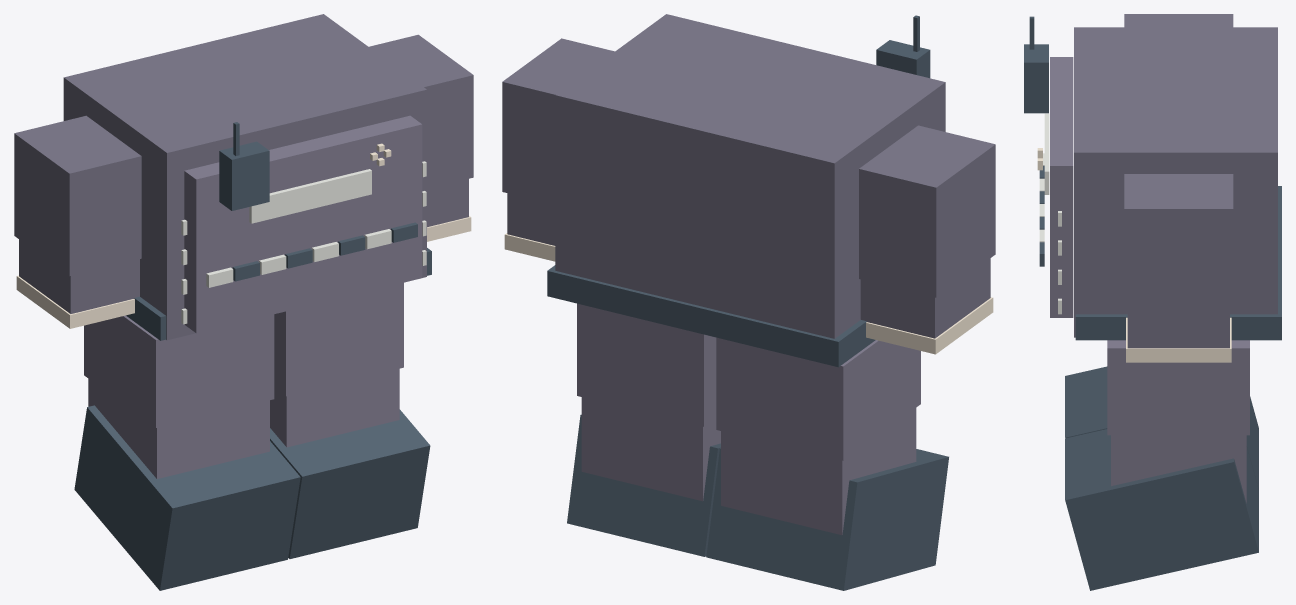
File: police-coral.glb
3 views of the same model, side by side, from view 1: azimuth 30°, elevation 25°; view 2: azimuth 150°, elevation 25°; view 3: azimuth 270°, elevation 25° (orthographic). The views are drawn at different scales.
Visible parts, largest first — view 1: jacket, duty-vest, shoe-Right, upper-sleeve-Right, trouser-Right, shoe-Left, trouser-Left, lower-trouser-Right, upper-sleeve-Left, lower-trouser-Left, lower-sleeve-Right, vest-label (+5 smaller); view 2: jacket, upper-sleeve-Right, shoe-Right, trouser-Right, trouser-Left, lower-trouser-Right, lower-trouser-Left, duty-belt, upper-sleeve-Left, shoe-Left, lower-sleeve-Right, cuff-Right (+3 smaller); view 3: jacket, shoe-Left, upper-sleeve-Left, trouser-Left, duty-vest, lower-trouser-Left, lower-sleeve-Left, shoe-Right, duty-belt, radio, cuff-Left, upper-sleeve-Right (+1 smaller).
Boxes of the visible parts, x1,y1,x2,y2 form: jacket: (63, 14, 426, 340); duty-vest: (184, 115, 422, 333); shoe-Right: (74, 405, 300, 590); upper-sleeve-Right: (14, 115, 141, 276); trouser-Right: (84, 314, 274, 427); shoe-Left: (270, 409, 430, 558); trouser-Left: (274, 282, 403, 396); lower-trouser-Right: (88, 379, 269, 478); upper-sleeve-Left: (369, 34, 473, 188); lower-trouser-Left: (270, 368, 399, 447); lower-sleeve-Right: (19, 239, 139, 313); vest-label: (249, 169, 371, 223); jacket: (555, 14, 945, 338); upper-sleeve-Right: (859, 125, 995, 297); shoe-Right: (706, 448, 948, 590); trouser-Right: (716, 337, 920, 460); trouser-Left: (577, 303, 716, 426); lower-trouser-Right: (721, 408, 916, 534); lower-trouser-Left: (581, 397, 720, 501); duty-belt: (547, 265, 875, 367); upper-sleeve-Left: (502, 38, 614, 204); shoe-Left: (567, 414, 720, 556); lower-sleeve-Right: (860, 258, 990, 338); cuff-Right: (866, 297, 993, 354); jacket: (1074, 27, 1277, 337); shoe-Left: (1065, 429, 1258, 590); upper-sleeve-Left: (1124, 174, 1233, 309); trouser-Left: (1107, 340, 1249, 435); duty-vest: (1050, 57, 1073, 317); lower-trouser-Left: (1111, 435, 1246, 503); lower-sleeve-Left: (1127, 310, 1229, 348); shoe-Right: (1065, 366, 1258, 489); duty-belt: (1075, 186, 1281, 340); radio: (1024, 44, 1048, 113); cuff-Left: (1126, 317, 1231, 362); upper-sleeve-Right: (1124, 14, 1233, 27).
Size of the model in its own units: 1.07 by 1.21 by 0.6.
